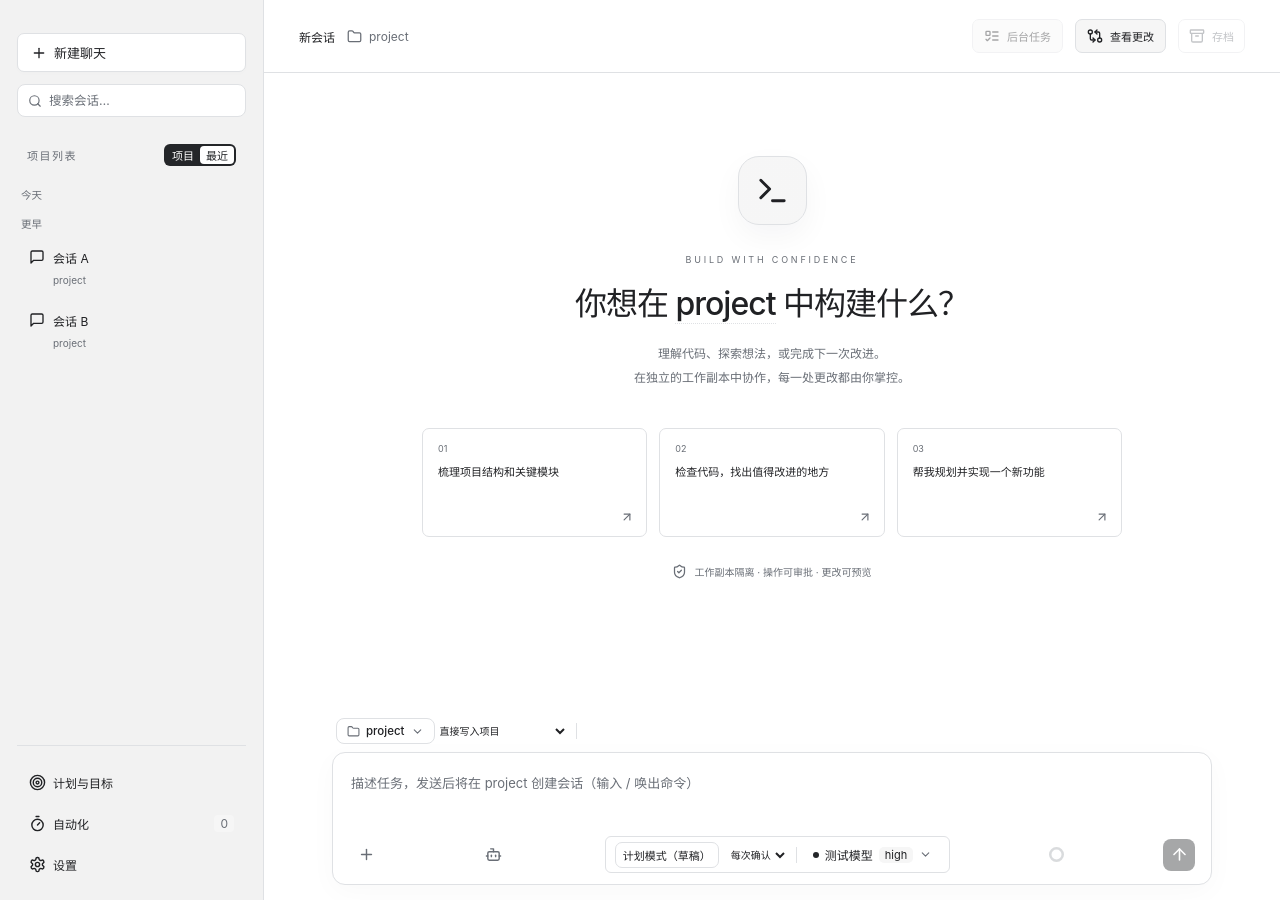
it: 中断后继续 › 完成的回合不会显示继续按钮
Click the button "会话 A project" at (126,268), box x1=17 y1=238 x2=236 y2=297
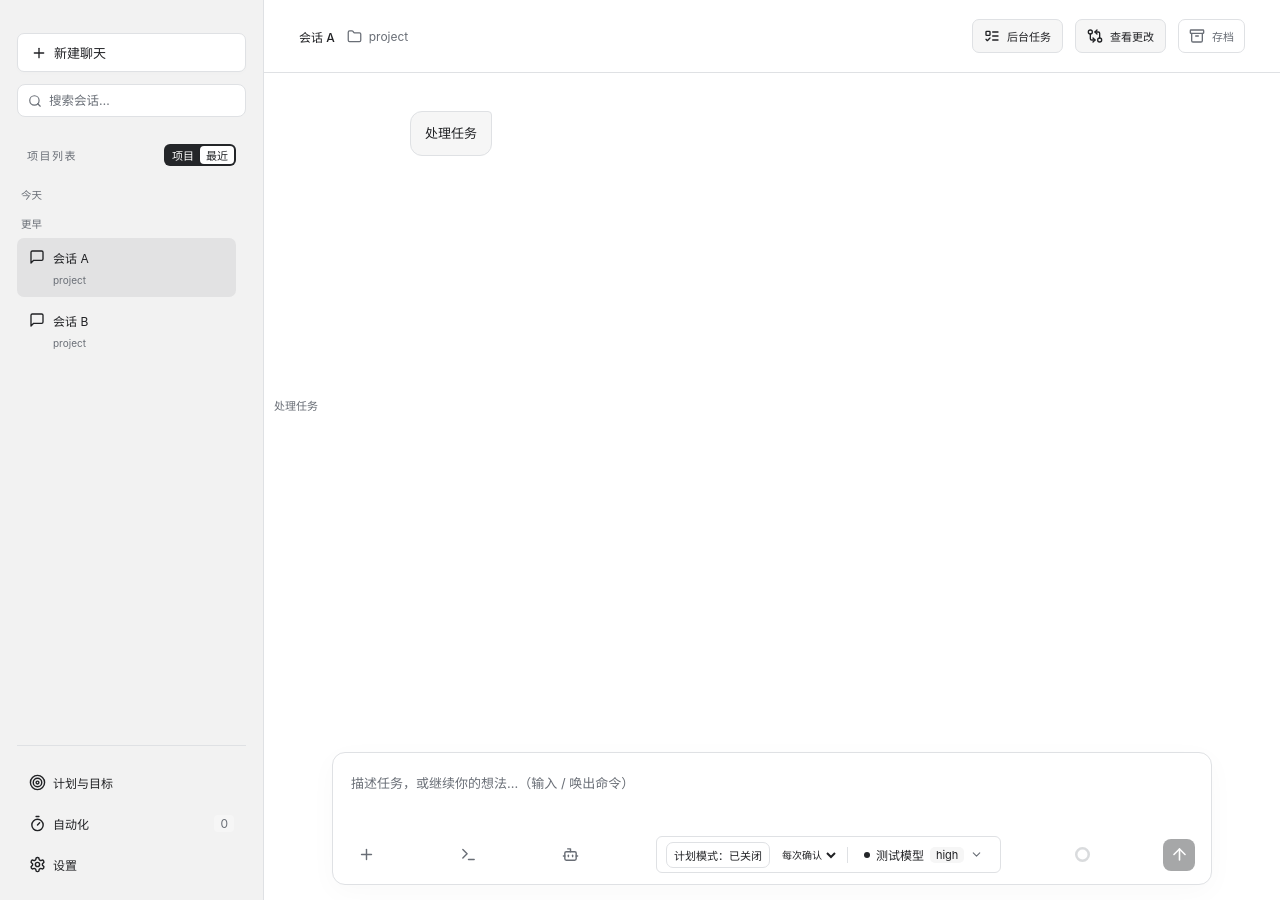
Expected: the button named "发送消息" is disabled, x1=1163 y1=838 x2=1195 y2=870
Expected: the 2nd text "处理任务" is shown, x1=274 y1=398 x2=318 y2=412
